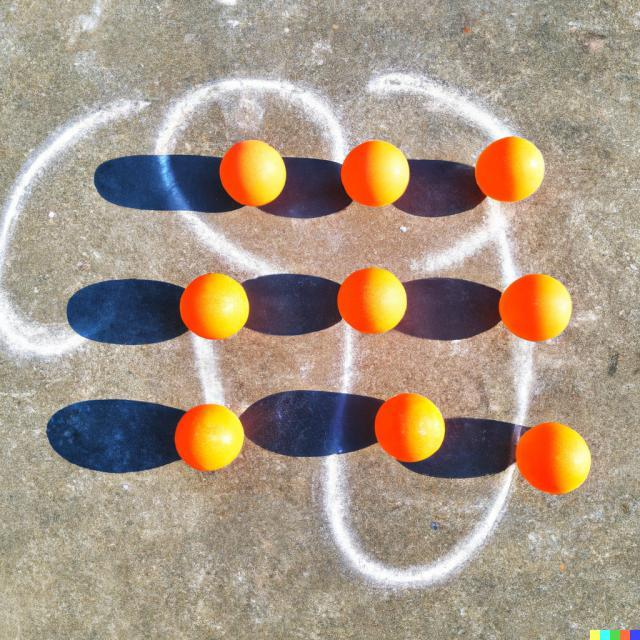orange: (518, 423, 592, 496), (500, 273, 573, 342), (176, 402, 246, 472), (376, 393, 445, 463), (180, 272, 250, 340), (340, 140, 410, 207), (476, 136, 546, 203), (337, 268, 408, 334), (220, 140, 286, 206)
